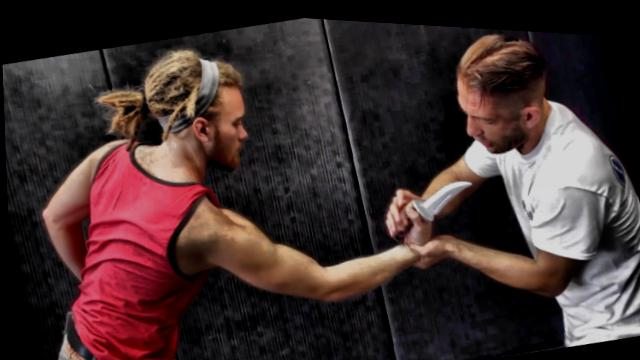knife: (372, 158, 488, 244)
